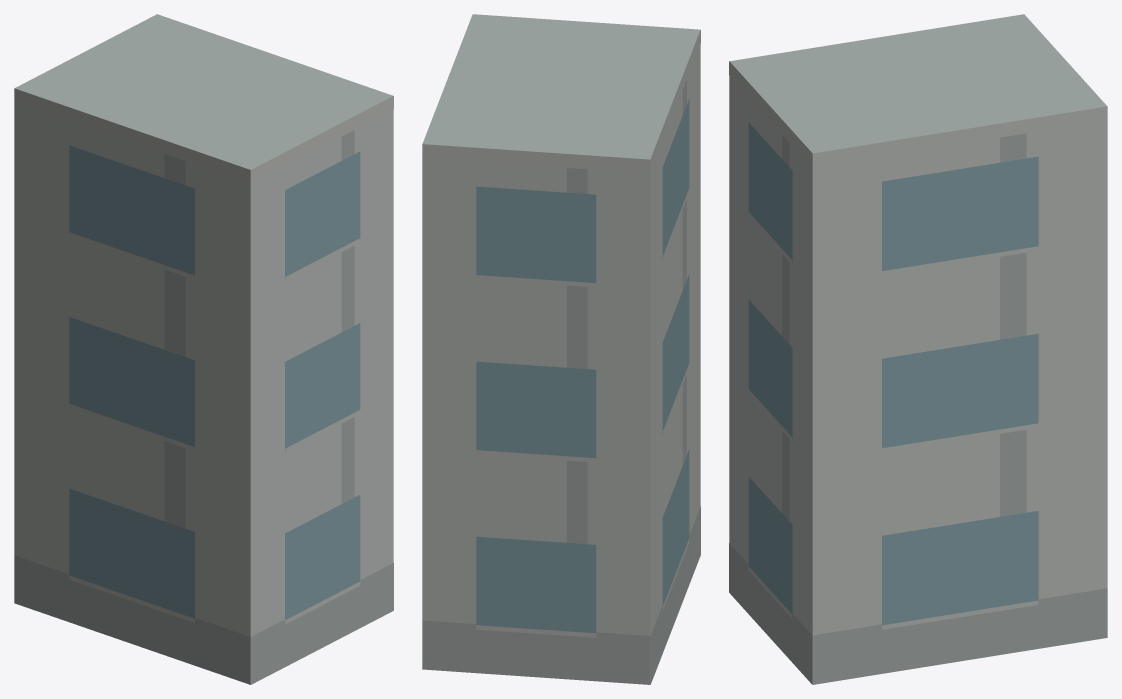
The model's file is survey-upis-32960982.glb.
3 renders of one model, left to right at view 1: azimuth 30°, elevation 25°; view 2: azimuth 150°, elevation 25°; view 3: azimuth 270°, elevation 25°, orthographic. The views are drawn at different scales.
Visible parts, largest first — view 1: survey-upis-32960982.tmp; view 2: survey-upis-32960982.tmp; view 3: survey-upis-32960982.tmp.
Boxes of the visible parts, box(x1,y1,x2,y2) form: survey-upis-32960982.tmp: box(14, 14, 393, 684); survey-upis-32960982.tmp: box(422, 14, 700, 684); survey-upis-32960982.tmp: box(729, 14, 1107, 684).
Size of the model in its own units: 5.16 by 9.15 by 5.91.
